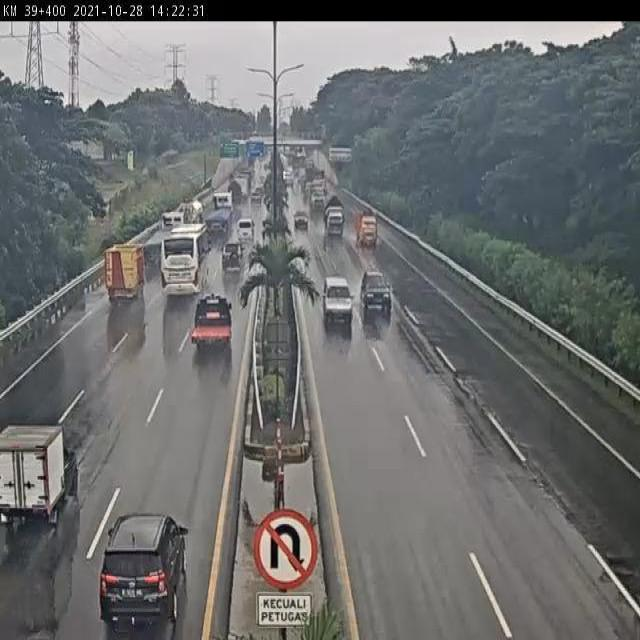bus-l-: (159, 220, 211, 296)
car: (99, 511, 187, 629), (322, 275, 353, 324), (360, 272, 391, 313), (234, 216, 257, 247), (221, 240, 244, 271)
small truck: (0, 420, 80, 532)
truck-m-: (170, 193, 206, 239)
truck-s-: (190, 294, 233, 354), (104, 243, 147, 300), (355, 207, 378, 248), (323, 196, 345, 235)
truck-xl-: (130, 211, 183, 265), (201, 189, 236, 244)
